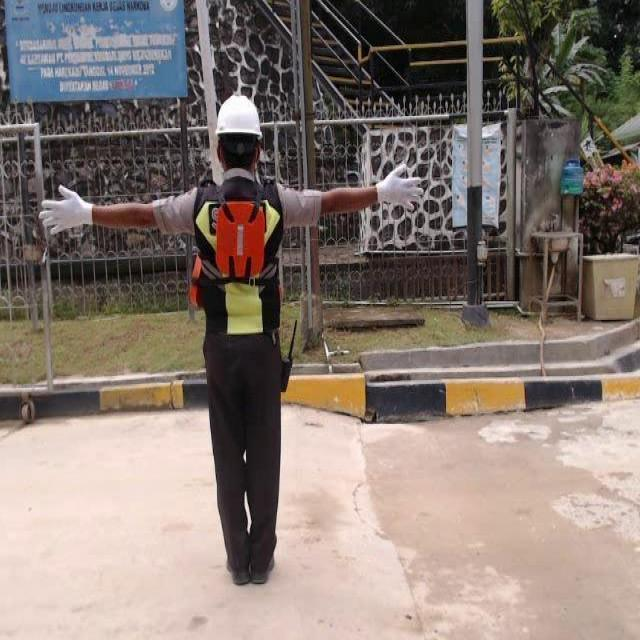vest: (212, 196, 269, 284)
